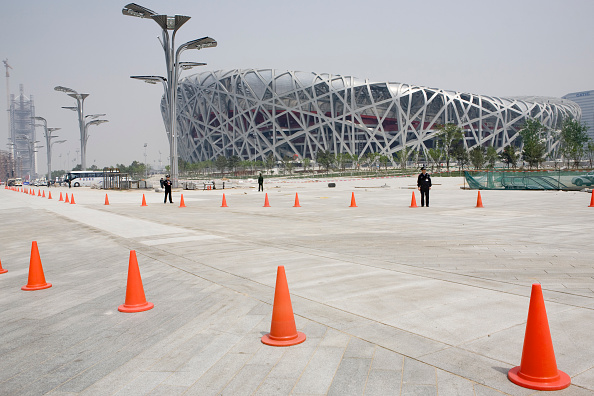trafficcone: (508, 284, 571, 391), (260, 265, 307, 346), (117, 249, 154, 312), (23, 240, 52, 293), (348, 192, 358, 207), (476, 190, 484, 207), (409, 191, 417, 208), (220, 193, 229, 207), (262, 192, 270, 207), (293, 192, 300, 207), (179, 193, 186, 208), (1, 261, 8, 275), (140, 193, 147, 206), (589, 190, 594, 207), (104, 193, 110, 206), (69, 194, 76, 204), (64, 193, 69, 203), (59, 192, 64, 201), (48, 190, 53, 199), (41, 190, 46, 198), (32, 189, 36, 196), (38, 189, 41, 196)
